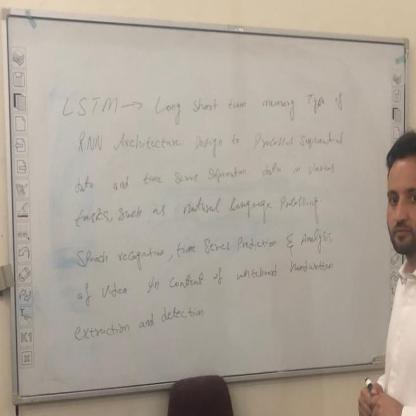Handwritten text: (59, 213, 347, 278), (69, 247, 350, 311), (71, 145, 346, 202), (68, 182, 331, 234), (58, 82, 349, 125), (66, 294, 223, 356), (74, 127, 351, 157)
Lecturer: (358, 128, 415, 416)
Whiteboard: (4, 5, 414, 403)
